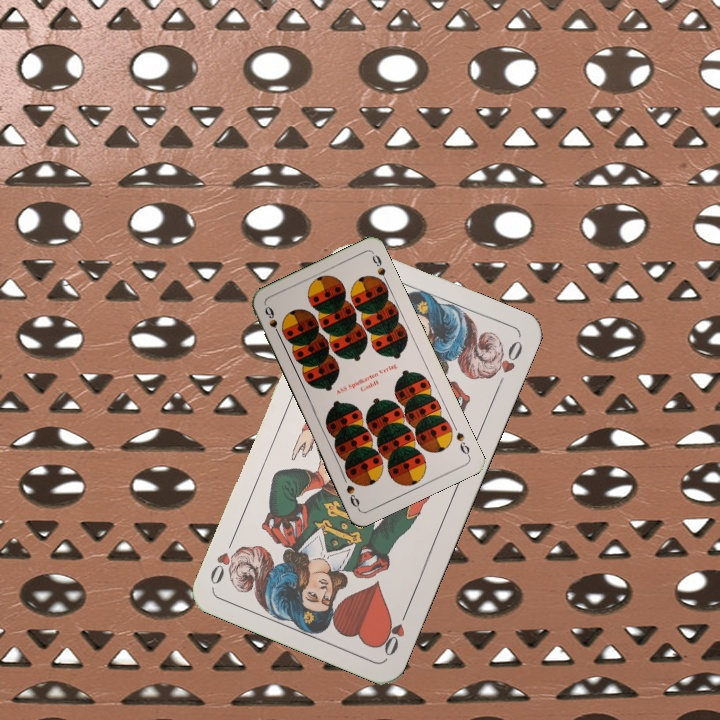HO: (376, 604, 412, 659)
S9: (260, 302, 284, 340), (452, 428, 473, 459)
